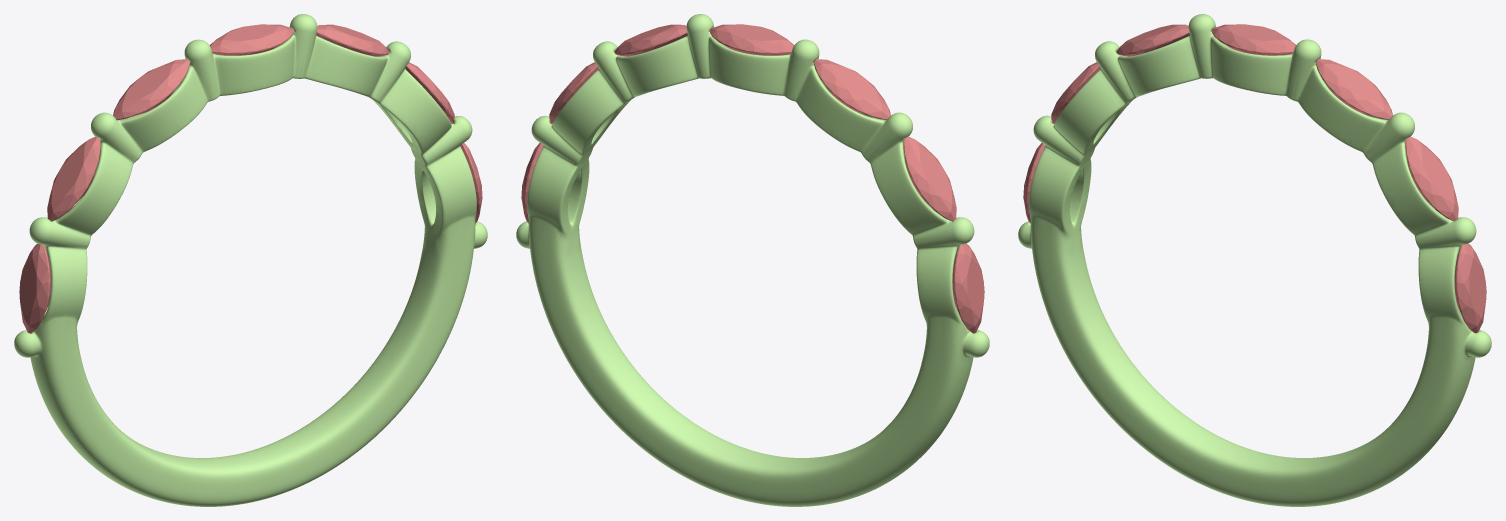
The model's file is BE2D873_RENDER.glb.
3 renders of one model, left to right at view 1: azimuth 30°, elevation 25°; view 2: azimuth 150°, elevation 25°; view 3: azimuth 330°, elevation 25°, orthographic.
Visible parts, largest first — view 1: Metal03, Diamond_Marquise_Gem_BD, Diamond_Marquise_Gem_BD.006, Diamond_Marquise_Gem_BD.001, Diamond_Marquise_Gem_BD.004, Diamond_Marquise_Gem_BD.005, Diamond_Marquise_Gem_BD.003, Diamond_Marquise_Gem_BD.002; view 2: Metal03, Diamond_Marquise_Gem_BD, Diamond_Marquise_Gem_BD.006, Diamond_Marquise_Gem_BD.001, Diamond_Marquise_Gem_BD.004, Diamond_Marquise_Gem_BD.005, Diamond_Marquise_Gem_BD.003, Diamond_Marquise_Gem_BD.002; view 3: Metal03, Diamond_Marquise_Gem_BD.003, Diamond_Marquise_Gem_BD.005, Diamond_Marquise_Gem_BD.002, Diamond_Marquise_Gem_BD.004, Diamond_Marquise_Gem_BD.006, Diamond_Marquise_Gem_BD, Diamond_Marquise_Gem_BD.001.
Boxes of the visible parts, x1,y1,x2,y2 form: Metal03: (14,14,487,506); Diamond_Marquise_Gem_BD: (47,136,100,221); Diamond_Marquise_Gem_BD.006: (113,59,190,120); Diamond_Marquise_Gem_BD.001: (19,243,51,333); Diamond_Marquise_Gem_BD.004: (210,24,294,55); Diamond_Marquise_Gem_BD.005: (316,24,389,56); Diamond_Marquise_Gem_BD.003: (405,62,454,123); Diamond_Marquise_Gem_BD.002: (460,143,482,223); Metal03: (516,14,989,506); Diamond_Marquise_Gem_BD: (903,136,956,221); Diamond_Marquise_Gem_BD.006: (813,59,890,119); Diamond_Marquise_Gem_BD.001: (952,243,984,333); Diamond_Marquise_Gem_BD.004: (709,24,793,55); Diamond_Marquise_Gem_BD.005: (614,24,687,56); Diamond_Marquise_Gem_BD.003: (549,62,598,123); Diamond_Marquise_Gem_BD.002: (521,143,543,223); Metal03: (1018,14,1491,506); Diamond_Marquise_Gem_BD.003: (1405,136,1458,221); Diamond_Marquise_Gem_BD.005: (1315,59,1392,119); Diamond_Marquise_Gem_BD.002: (1454,243,1486,333); Diamond_Marquise_Gem_BD.004: (1211,24,1295,55); Diamond_Marquise_Gem_BD.006: (1116,24,1189,56); Diamond_Marquise_Gem_BD: (1051,62,1100,123); Diamond_Marquise_Gem_BD.001: (1023,143,1045,223).
Bounding box in the file's own units: 21.48 × 20.55 × 2.15.
